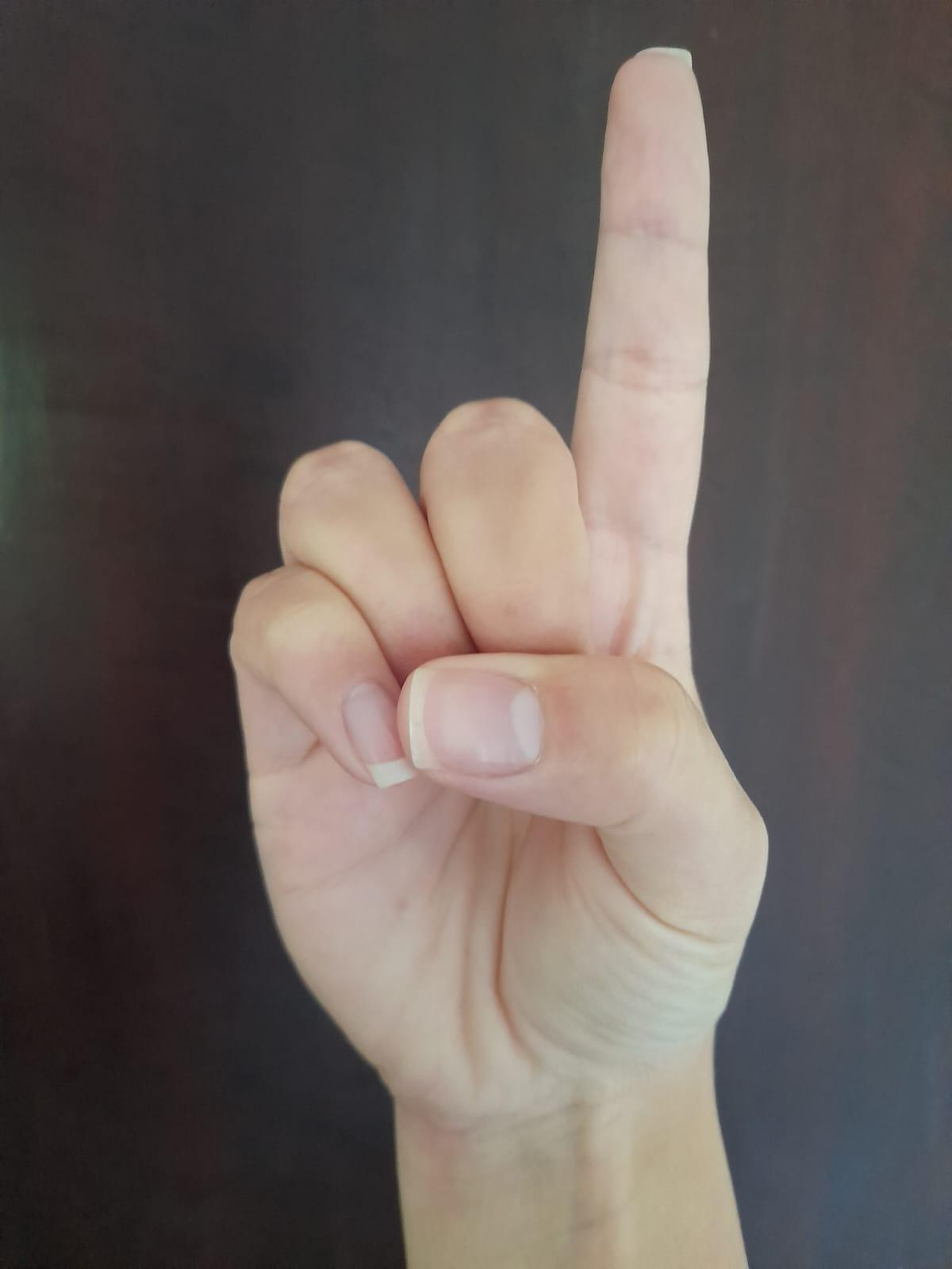D2: (151, 12, 873, 1146)
